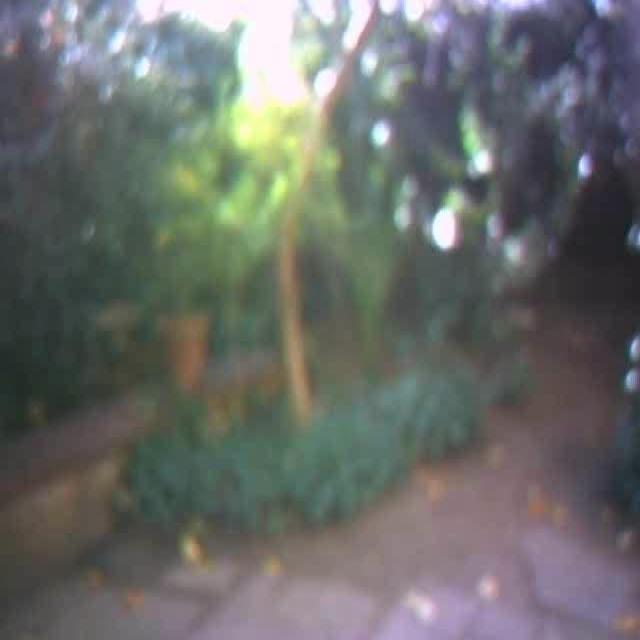other: (196, 20, 325, 192)
